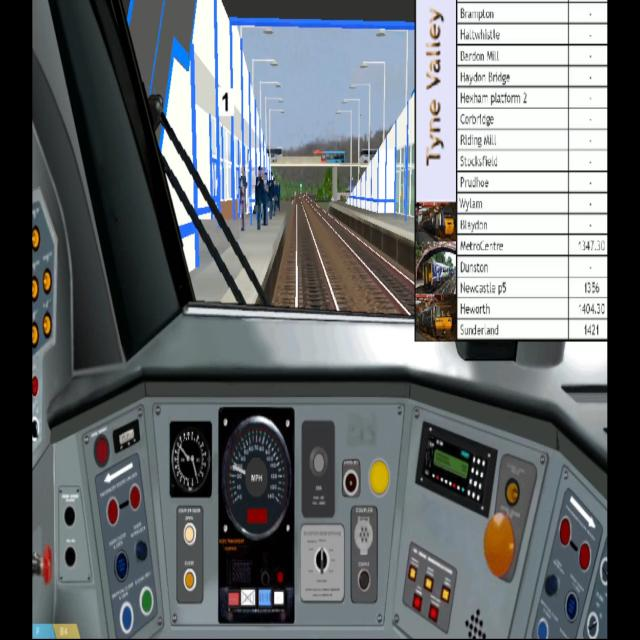Person: (236, 162, 248, 234), (256, 165, 266, 230), (266, 165, 272, 220), (276, 176, 284, 211)
Platform: (191, 201, 288, 308), (327, 199, 417, 278)
Spedometer: (219, 409, 294, 626)
Station: (175, 2, 276, 275), (343, 84, 414, 223)
Track: (306, 196, 416, 320), (280, 193, 353, 318)
